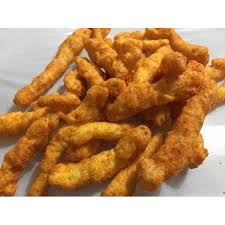kurkure: (1, 29, 224, 196)
